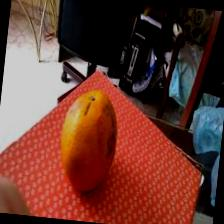Orange Rotten: (51, 79, 133, 206)
